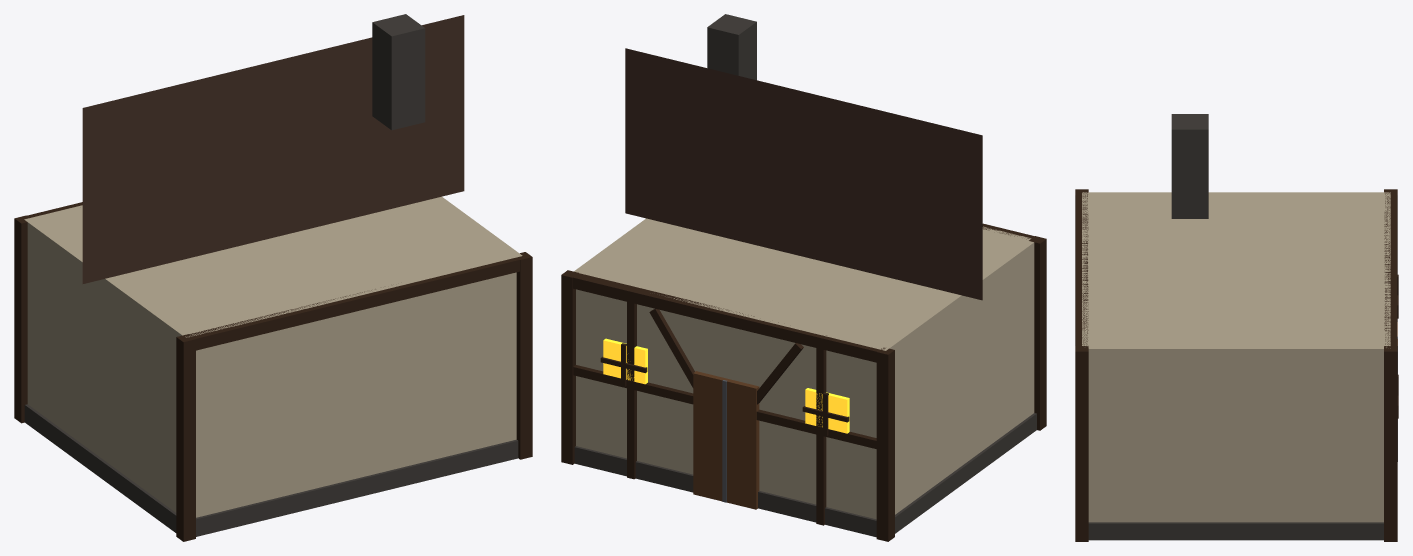
File: house_a.glb
3 renders of one model, left to right at view 1: azimuth 30°, elevation 25°; view 2: azimuth 150°, elevation 25°; view 3: azimuth 270°, elevation 25°, orthographic. The views are drawn at different scales.
Parts seen in each view (by area): view 1: house_a; view 2: house_a; view 3: house_a.
Boxes of the visible parts, box(x1,y1,x2,y2) form: house_a: box(14, 14, 532, 541); house_a: box(561, 14, 1046, 541); house_a: box(1075, 114, 1398, 541).
Size of the model in its own units: 6.8 by 6.9 by 5.24.
